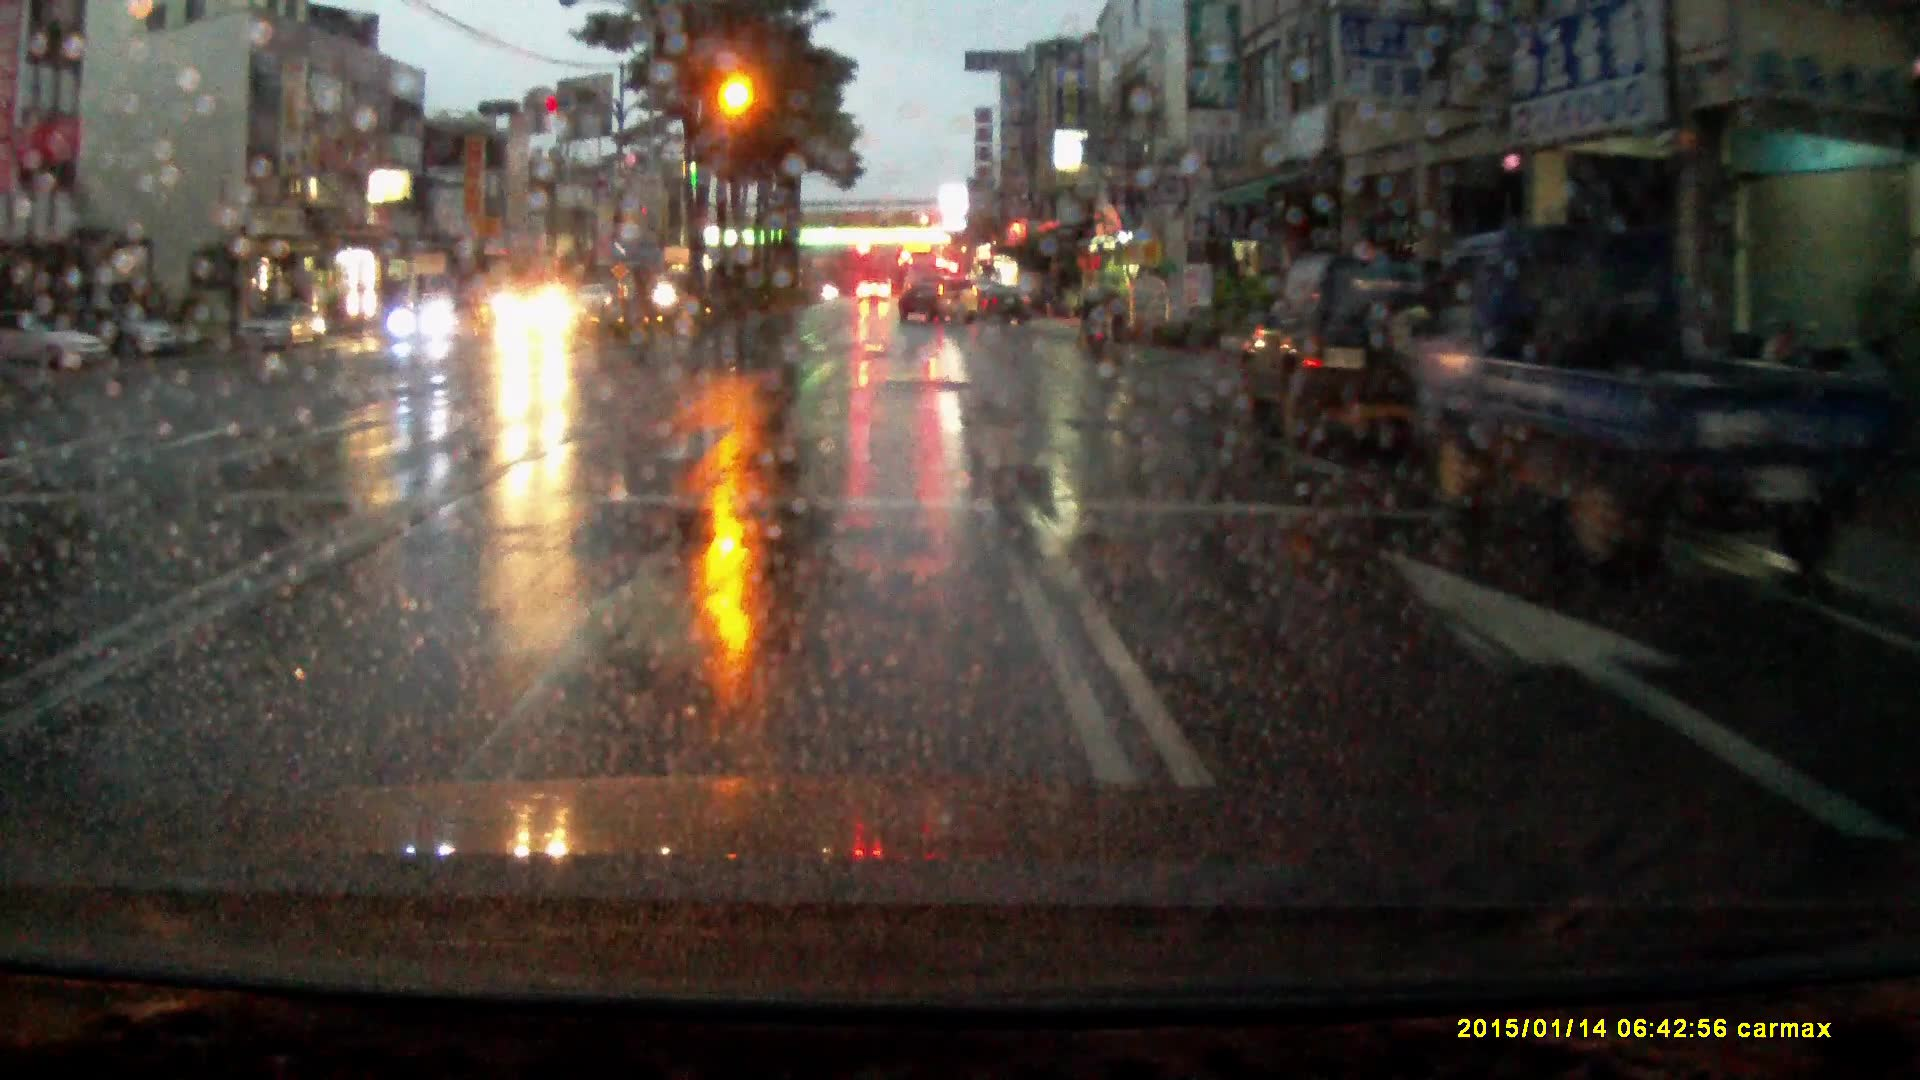vehicle: (1418, 229, 1828, 575), (1240, 253, 1456, 454), (1, 309, 116, 378), (497, 281, 585, 347), (237, 298, 327, 355), (895, 277, 978, 328), (120, 305, 189, 360), (388, 297, 465, 345), (982, 287, 1033, 328), (901, 257, 940, 309), (856, 280, 894, 307)
